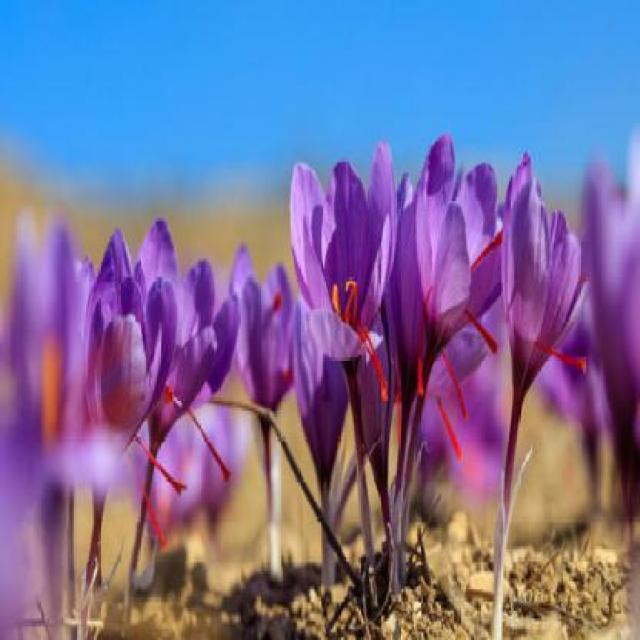Flower: (116, 201, 247, 447), (278, 142, 400, 383), (501, 157, 596, 408), (410, 138, 516, 358), (81, 225, 153, 484), (218, 246, 297, 422)
stigma: (163, 382, 236, 484), (353, 314, 393, 405), (134, 435, 190, 492), (137, 486, 173, 554), (434, 389, 466, 462), (528, 342, 593, 376), (464, 304, 504, 358), (414, 298, 427, 398), (469, 235, 504, 272), (338, 281, 361, 325)
